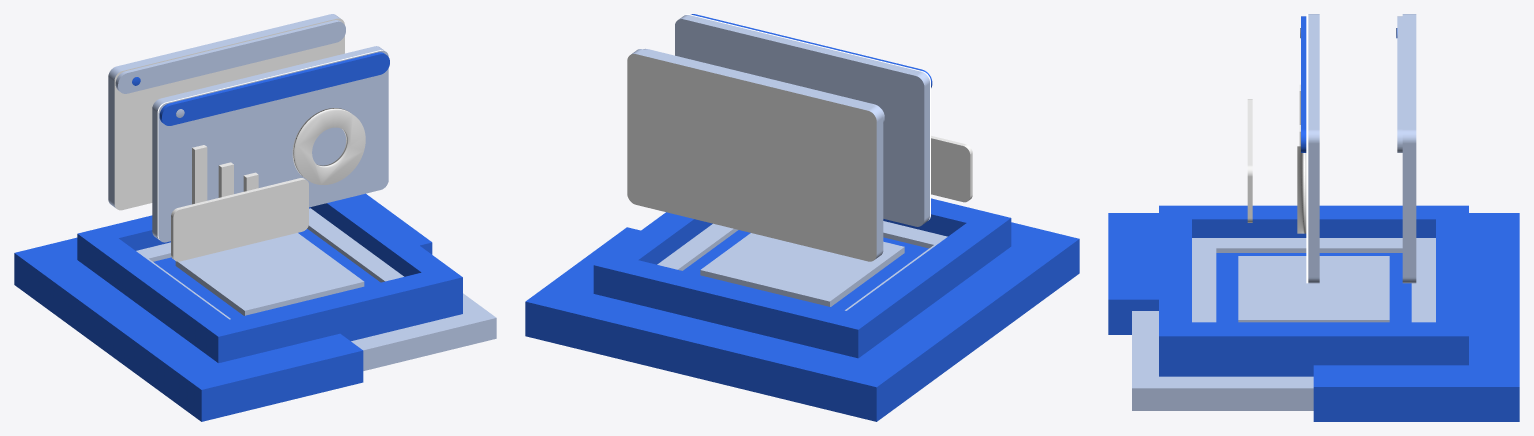
3 renders of one model, left to right at view 1: azimuth 30°, elevation 25°; view 2: azimuth 150°, elevation 25°; view 3: azimuth 270°, elevation 25°, orthographic. The views are drawn at different scales.
Visible parts, largest first — view 1: 立方体.006, 立方体.005, 立方体.003, 立方体.014, 立方体.008, 立方体, 立方体.015, 立方体.004, 立方体.007, 柱体.002, 立方体.009, 立方体.013 (+2 smaller); view 2: 立方体.014, 立方体.005, 立方体.006, 立方体.003, 立方体.008, 立方体.009, 立方体, 立方体.013, 立方体.004, 立方体.015; view 3: 立方体.006, 立方体.005, 立方体.008, 立方体.007, 立方体.009, 立方体.014, 立方体.003, 立方体.013, 柱体.002, 立方体.004, 立方体.015, 立方体.
Boxes of the visible parts, x1,y1,x2,y2 form: 立方体.006: (77,197,462,363); 立方体.005: (14,193,432,421); 立方体.003: (152,46,388,242); 立方体.014: (108,14,344,210); 立方体.008: (175,233,364,315); 立方体: (171,178,308,261); 立方体.015: (115,20,345,93); 立方体.004: (159,52,389,125); 立方体.007: (351,293,496,370); 柱体.002: (292,108,365,185); 立方体.009: (136,208,403,319); 立方体.013: (153,229,380,318); 立方体.014: (627,49,883,261); 立方体.005: (525,222,1079,421); 立方体.006: (593,198,1011,358); 立方体.003: (675,14,930,226); 立方体.008: (700,233,904,306); 立方体.009: (657,221,947,310); 立方体: (931,135,972,202); 立方体.013: (683,230,928,310); 立方体.004: (691,14,932,87); 立方体.015: (643,48,884,122); 立方体.006: (1159,205,1468,376); 立方体.005: (1108,213,1519,421); 立方体.008: (1238,256,1389,322); 立方体.007: (1132,311,1313,410); 立方体.009: (1192,238,1435,322); 立方体.014: (1402,14,1416,283); 立方体.003: (1306,14,1319,283); 立方体.013: (1216,253,1411,322); 柱体.002: (1297,146,1306,233); 立方体.004: (1301,16,1306,152); 立方体.015: (1397,16,1402,152); 立方体: (1247,99,1252,222).
Size of what is drawn, in the model's own units: 2.39 by 1.69 by 2.39.
